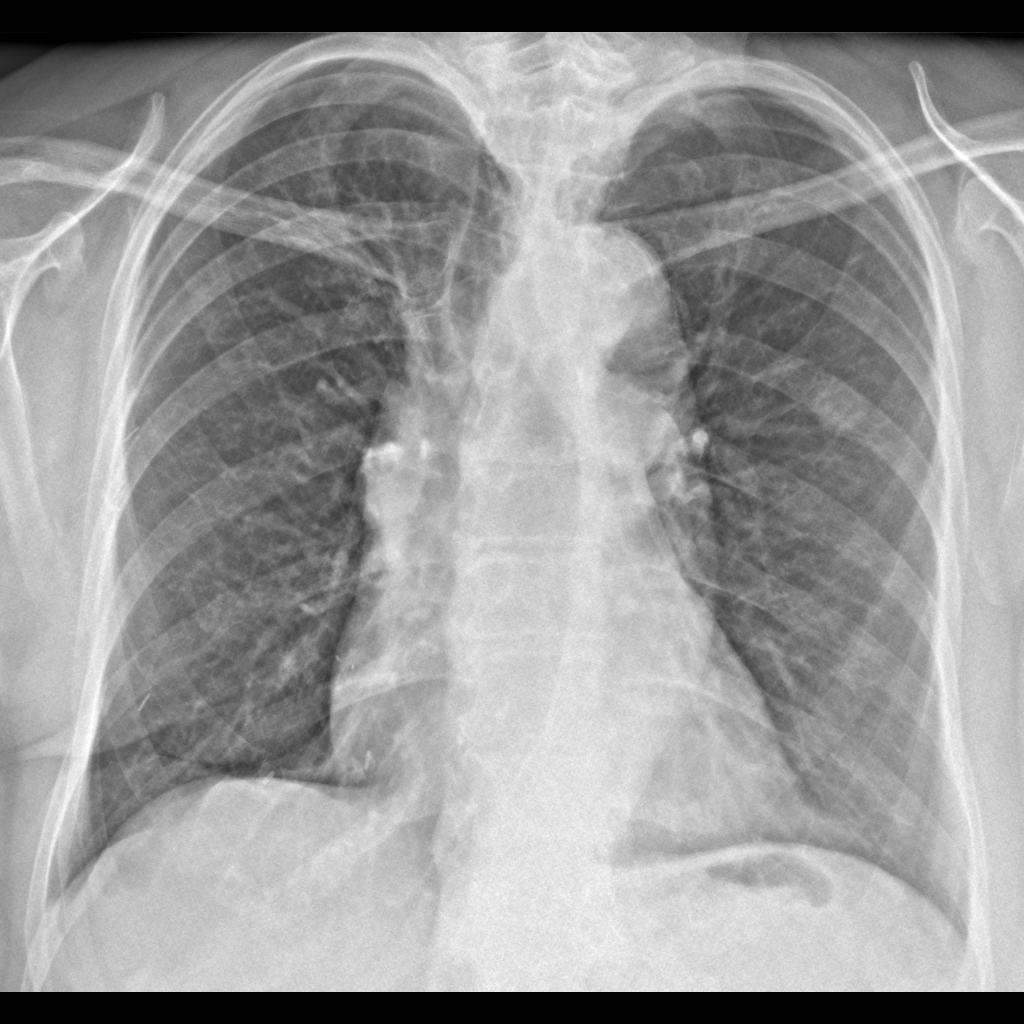Nodule: (797, 361, 880, 451)
